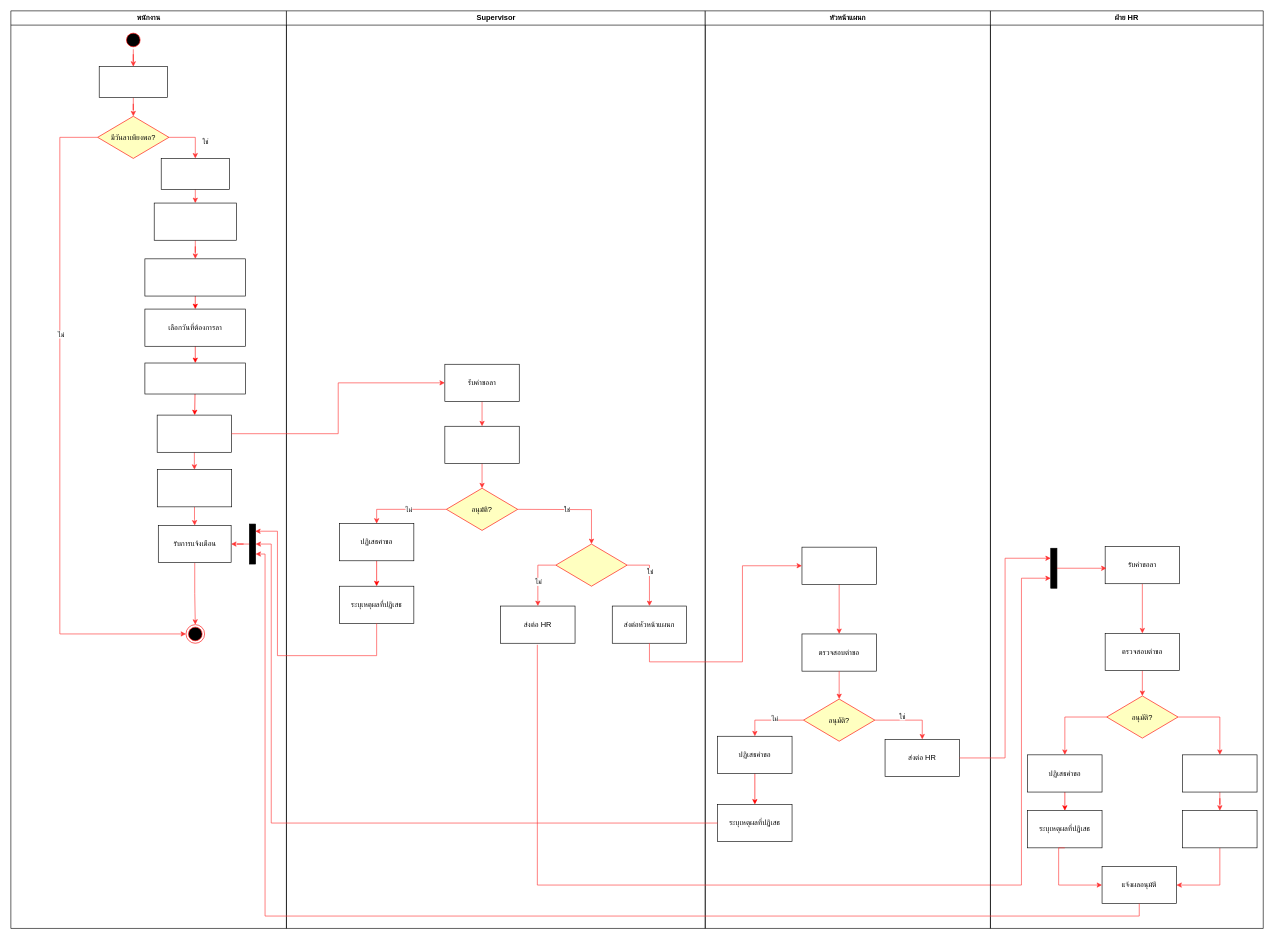
The diagram is 1274 pixels wide and 939 high, and some of its shapes have lost their labels. Each missing label, with the centre of its shape:
"ตรวจสอบคำขอ" belongs at point 481,444.
"ตรวจสอบโควต้าวันลา" belongs at point 133,82.
"ปรับปรุงโควต้า" belongs at point 1219,829.
"รออนุมัติ" belongs at point 194,488.
"ระบุเหตุผลในการลา" belongs at point 195,378.
"รับคำขอลา 5 วันขึ้นไป" belongs at point 838,565.
"ลา 5 วันขึ้นไป?" belongs at point 591,564.
"สร้างคำขอลา" belongs at point 195,173.
"ส่งคำขอลา" belongs at point 194,433.
"อนุมัติคำขอ" belongs at point 1219,773.
"เลือกประเภทการลา (ลาป่วย/ลากิจ/ลาพักร้อน)" belongs at point 195,221.
"เลือกระยะเวลาการลา (ครึ่งวันเช้า/ครึ่งวันบ่าย/เต็มวัน)" belongs at point 195,277.
